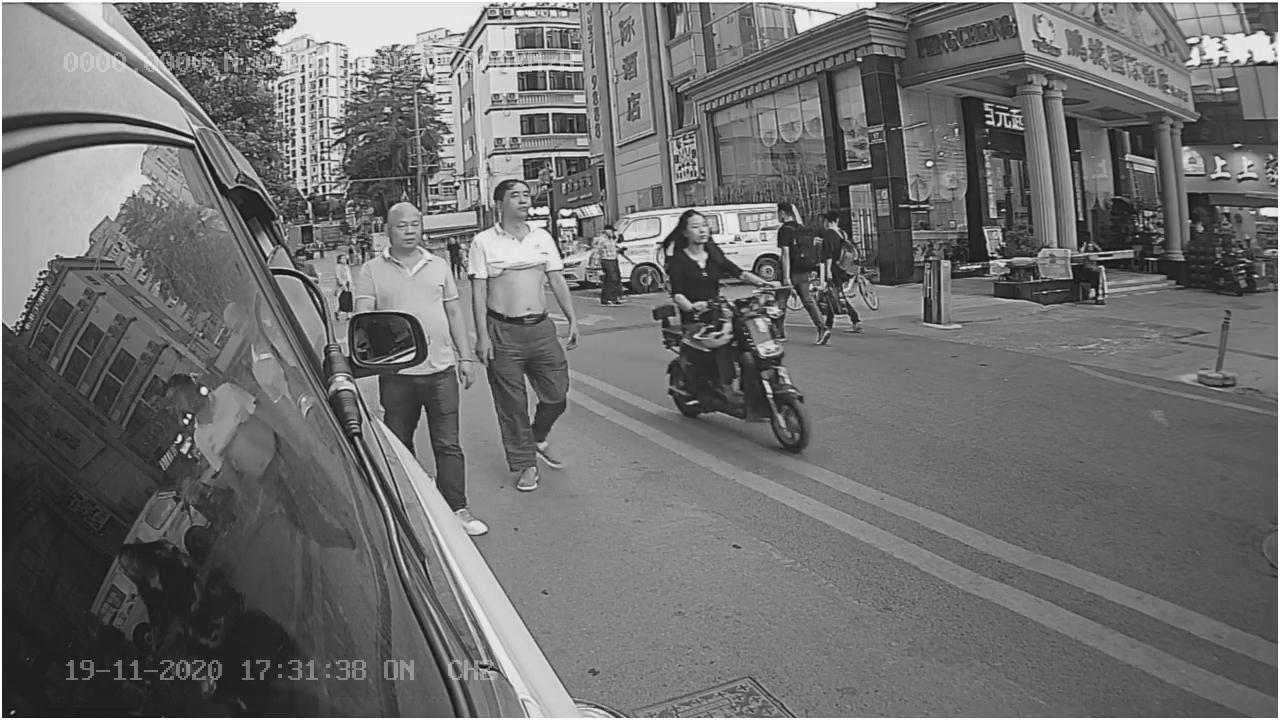person: (470, 186, 571, 492), (656, 214, 750, 297)
